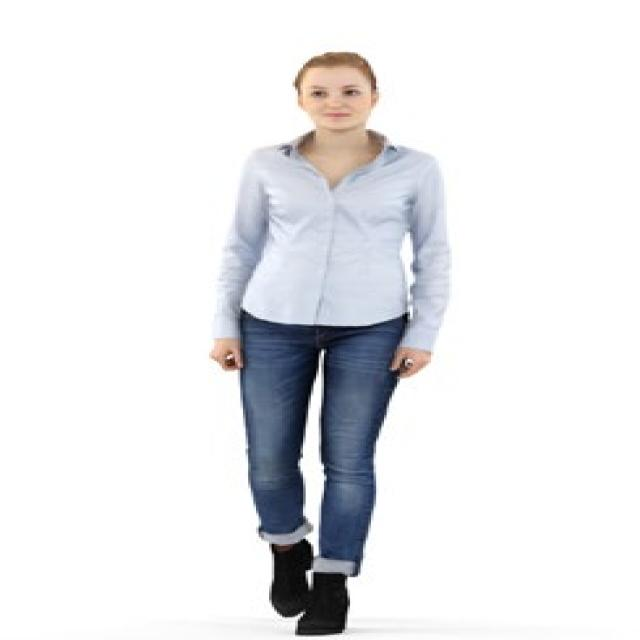standing: (211, 49, 452, 640)
